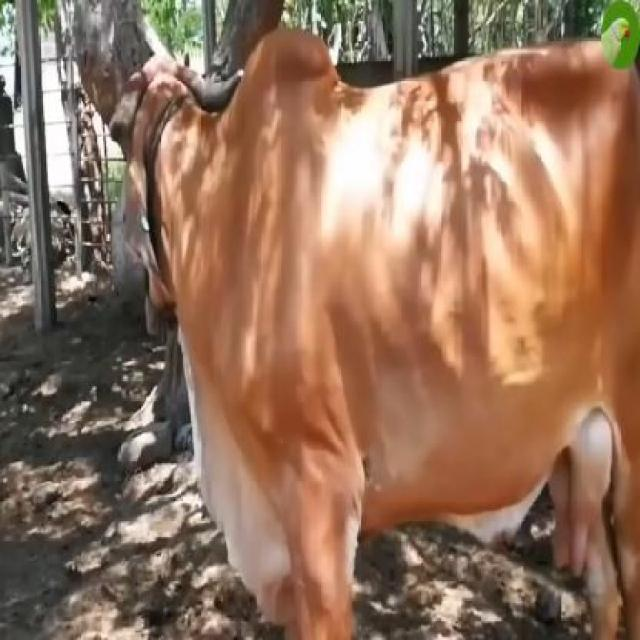Cow: (76, 29, 638, 638)
